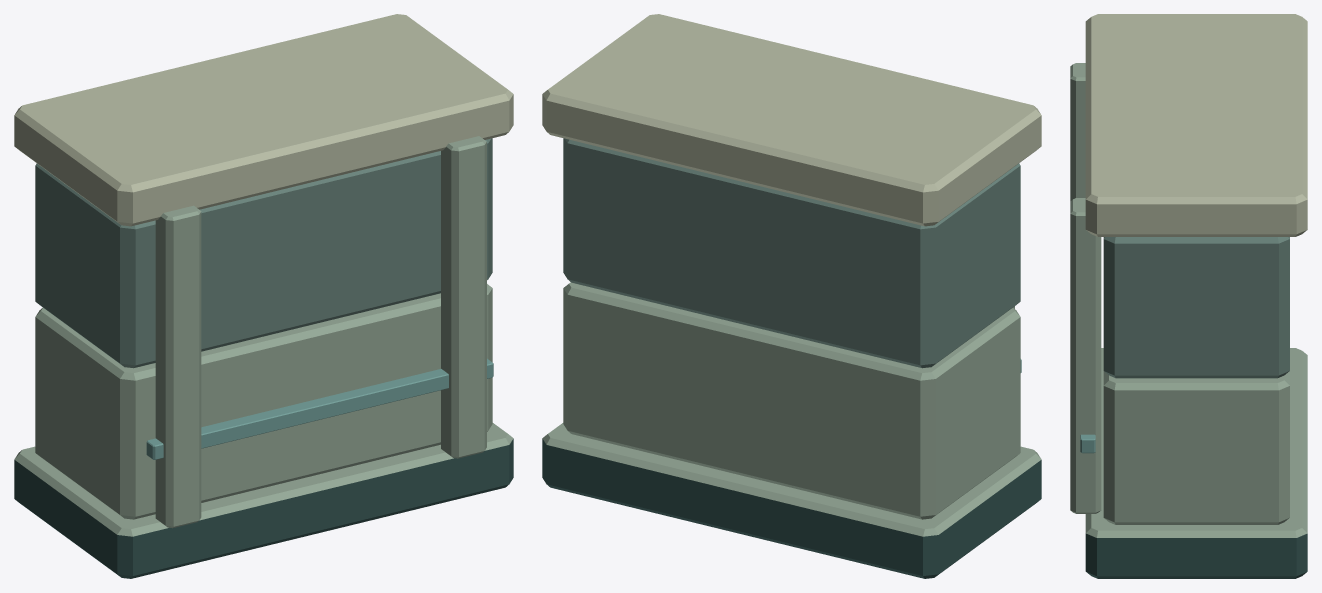
The model's file is wall-short.glb.
3 renders of one model, left to right at view 1: azimuth 30°, elevation 25°; view 2: azimuth 150°, elevation 25°; view 3: azimuth 270°, elevation 25°, orthographic. The views are drawn at different scales.
Visible parts, largest first — view 1: wall-short__body; view 2: wall-short__body; view 3: wall-short__body.
Boxes of the visible parts, x1=… form: wall-short__body: x1=14, y1=14, x2=513, y2=578; wall-short__body: x1=542, y1=14, x2=1041, y2=578; wall-short__body: x1=1070, y1=14, x2=1307, y2=578.
Bounding box in the file's own units: 1 × 0.95 × 0.535.
